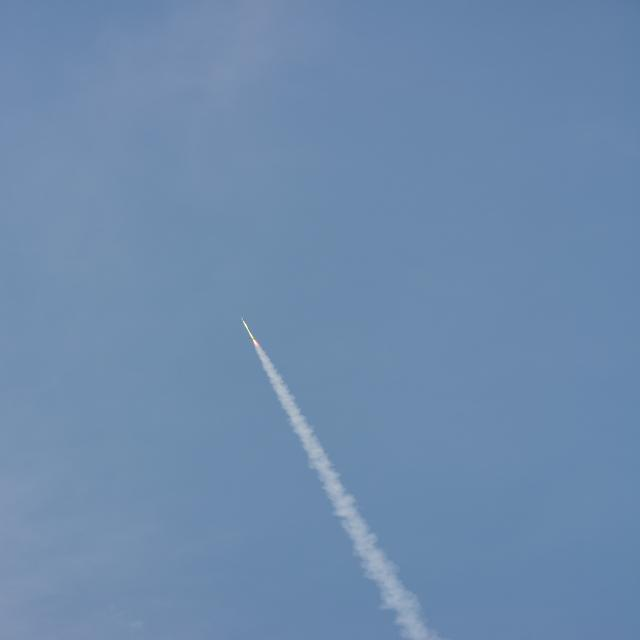Rocket: (240, 317, 256, 340)
